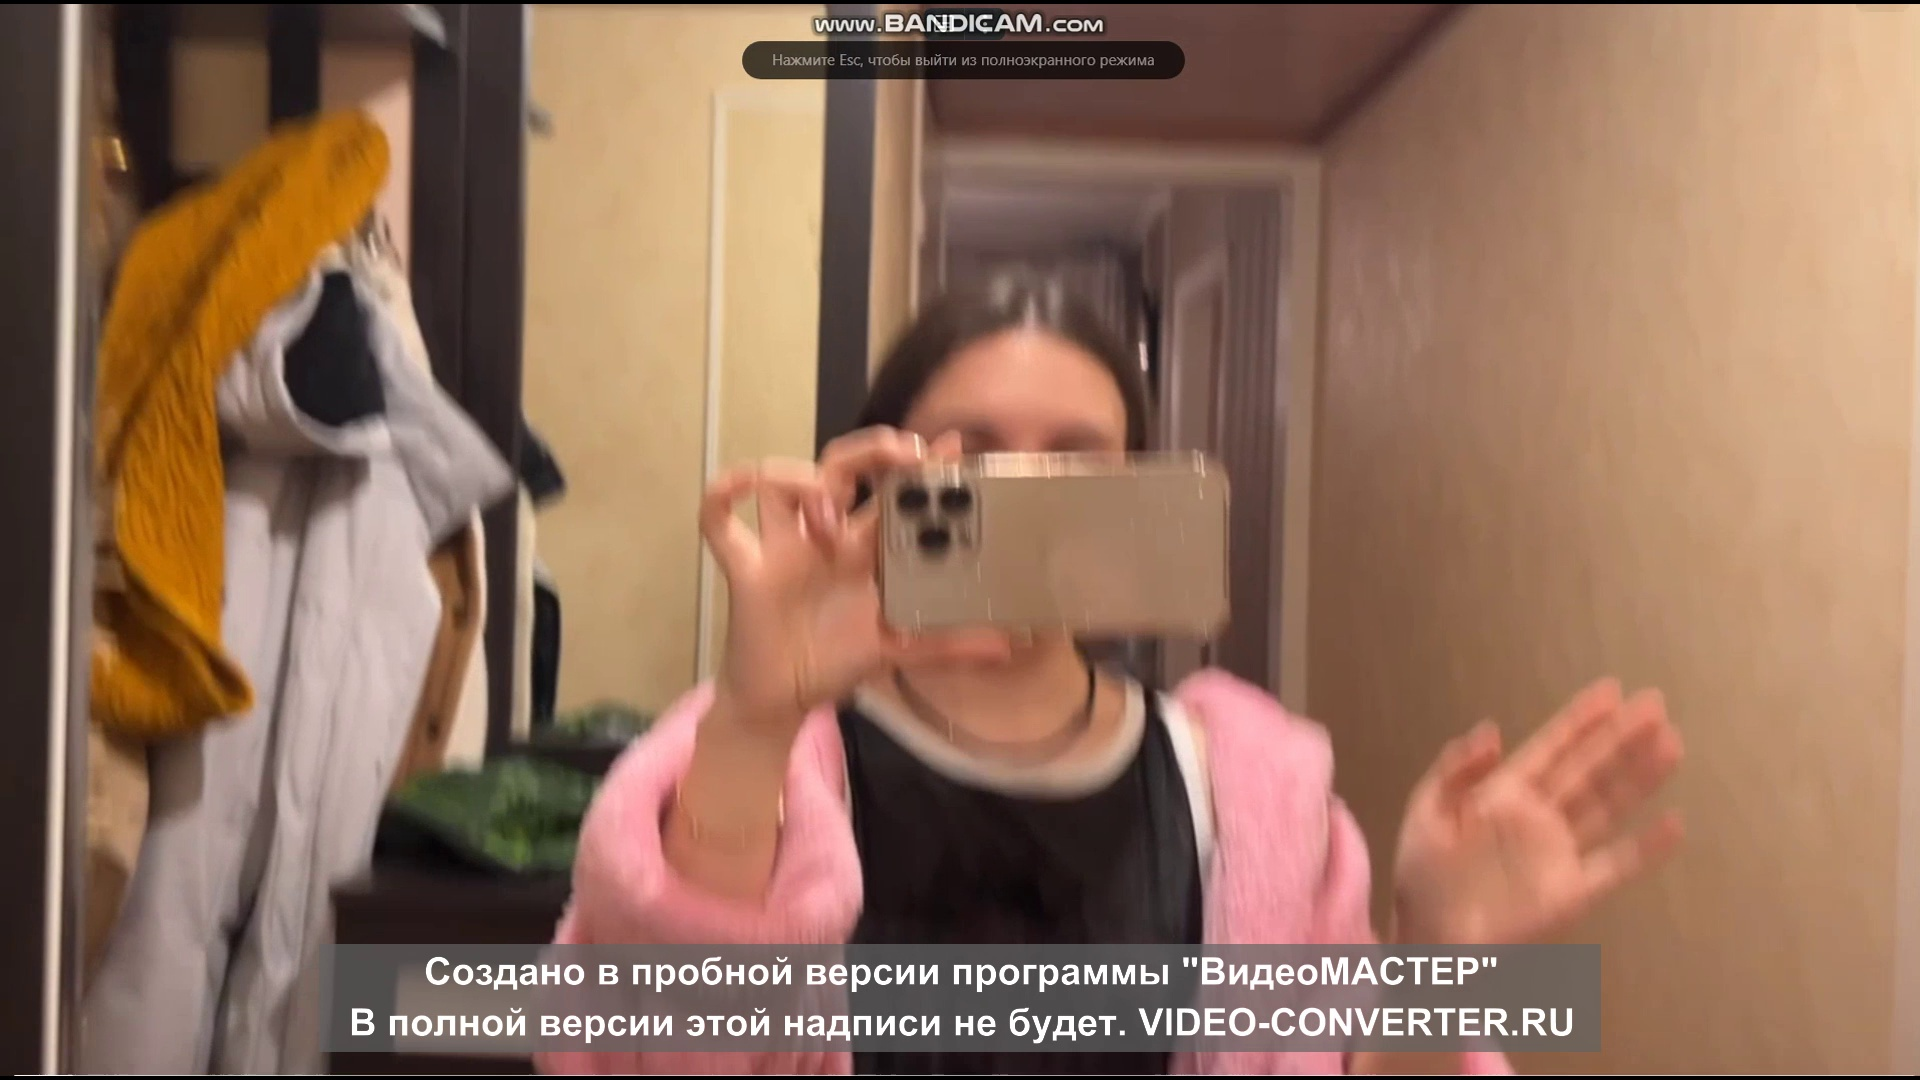Ладонь: (1395, 671, 1684, 939)
